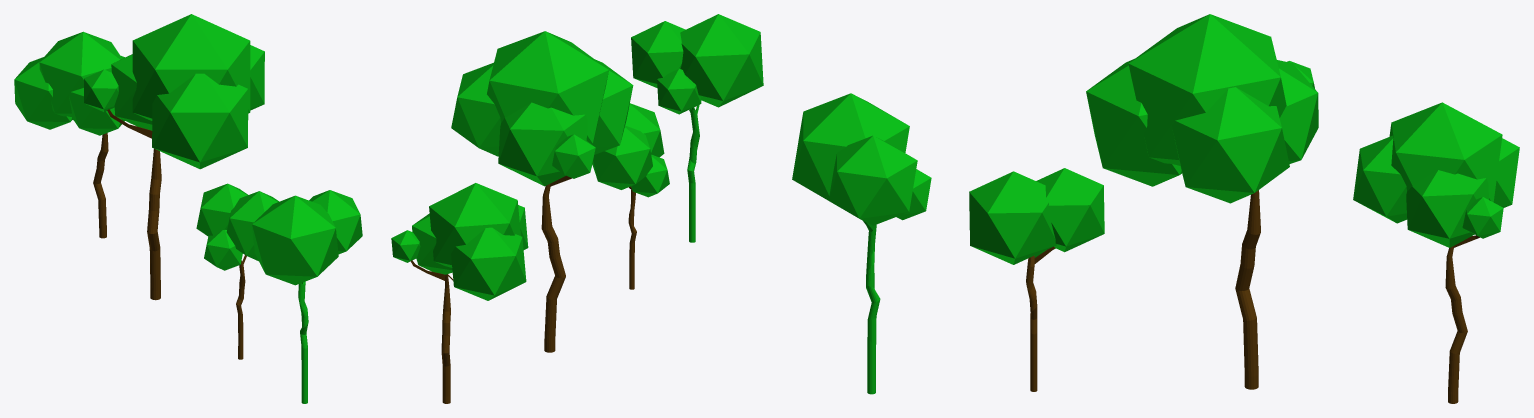
File: Trees.fbx
3 views of the same model, side by side, from view 1: azimuth 30°, elevation 25°; view 2: azimuth 150°, elevation 25°; view 3: azimuth 270°, elevation 25° (orthographic). The views are drawn at different scales.
Visible parts, largest first — view 1: Tree3, Tree1, Tree4, Tree2; view 2: Tree3, Tree4, Tree1, Tree2; view 3: Tree3, Tree4, Tree1, Tree2.
Boxes of the visible parts, <box> form: Tree3: <box>84,14,264,300</box>; Tree1: <box>252,190,362,403</box>; Tree4: <box>14,31,124,238</box>; Tree2: <box>196,183,278,359</box>; Tree3: <box>451,31,633,352</box>; Tree4: <box>391,183,528,403</box>; Tree1: <box>631,14,763,242</box>; Tree2: <box>592,103,669,289</box>; Tree3: <box>1086,14,1318,389</box>; Tree4: <box>1353,102,1519,403</box>; Tree1: <box>792,93,931,394</box>; Tree2: <box>969,168,1104,391</box>.
Size of the model in its own units: 246 by 453 by 770.
